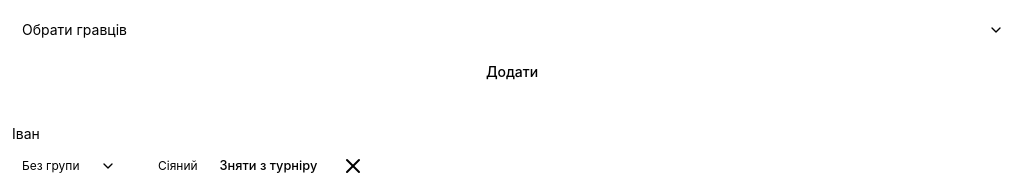
Test: TournamentRoster (adding participants) › excludes players already on the roster from the picker
Click the dropdown labelled "Обрати гравців".
click(75, 30)  # box [12,12,1012,48]
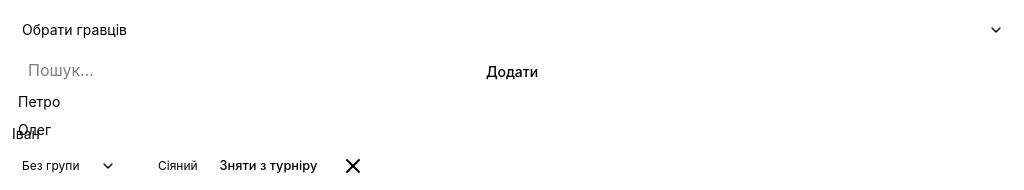
Check: the option "Петро" is shown, box [18,93,60,110]
